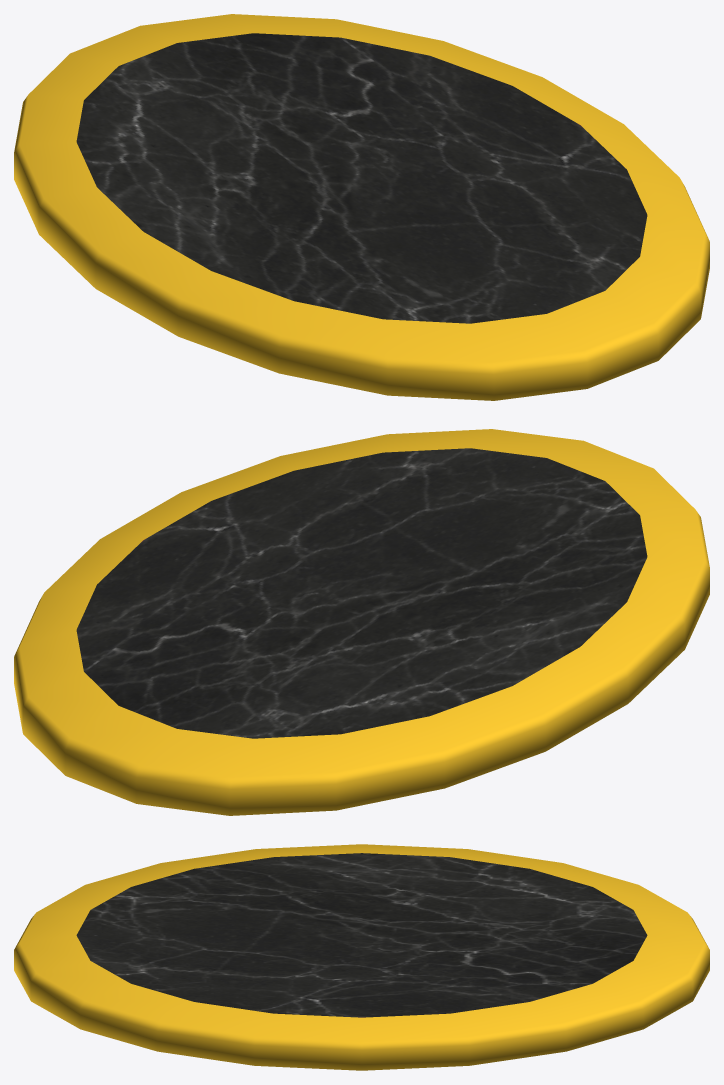
File: Mat_ban.fbx
3 renders of one model, top to bottom at view 1: azimuth 30°, elevation 25°; view 2: azimuth 150°, elevation 25°; view 3: azimuth 270°, elevation 25°, orthographic. The views are drawn at different scales.
Parts seen in each view (by area): view 1: polySurface63; view 2: polySurface63; view 3: polySurface63.
Boxes of the visible parts, <box> form: polySurface63: <box>14,14,709,400</box>; polySurface63: <box>14,429,709,815</box>; polySurface63: <box>14,844,709,1070</box>.
Bounding box in the file's own units: 4.76 × 0.3882 × 6.98.
